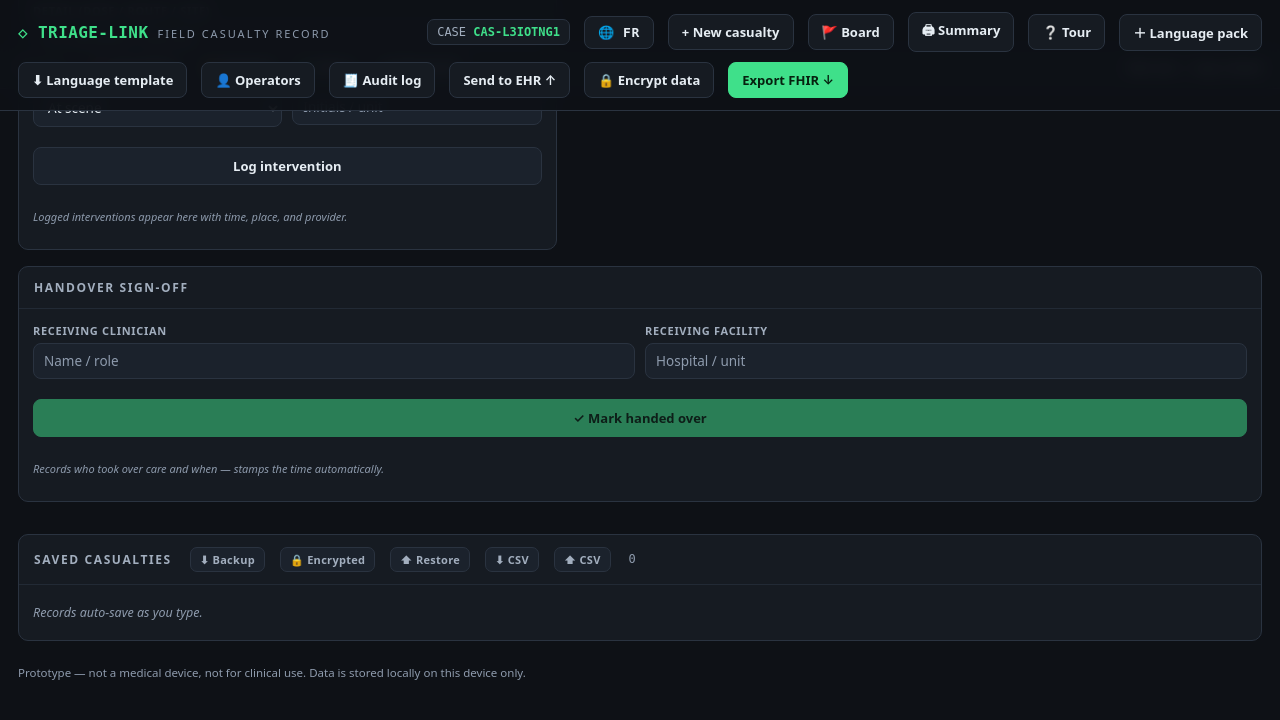
Test: App — handover sign-off › stamps a handover from the receiving clinician and can undo it
The width and height of the screenshot is (1280, 720).
(page scrolled)
Type "Dr. Smith" into the field labelled "Receiving clinician" at (334, 361), box [33,343,635,379]
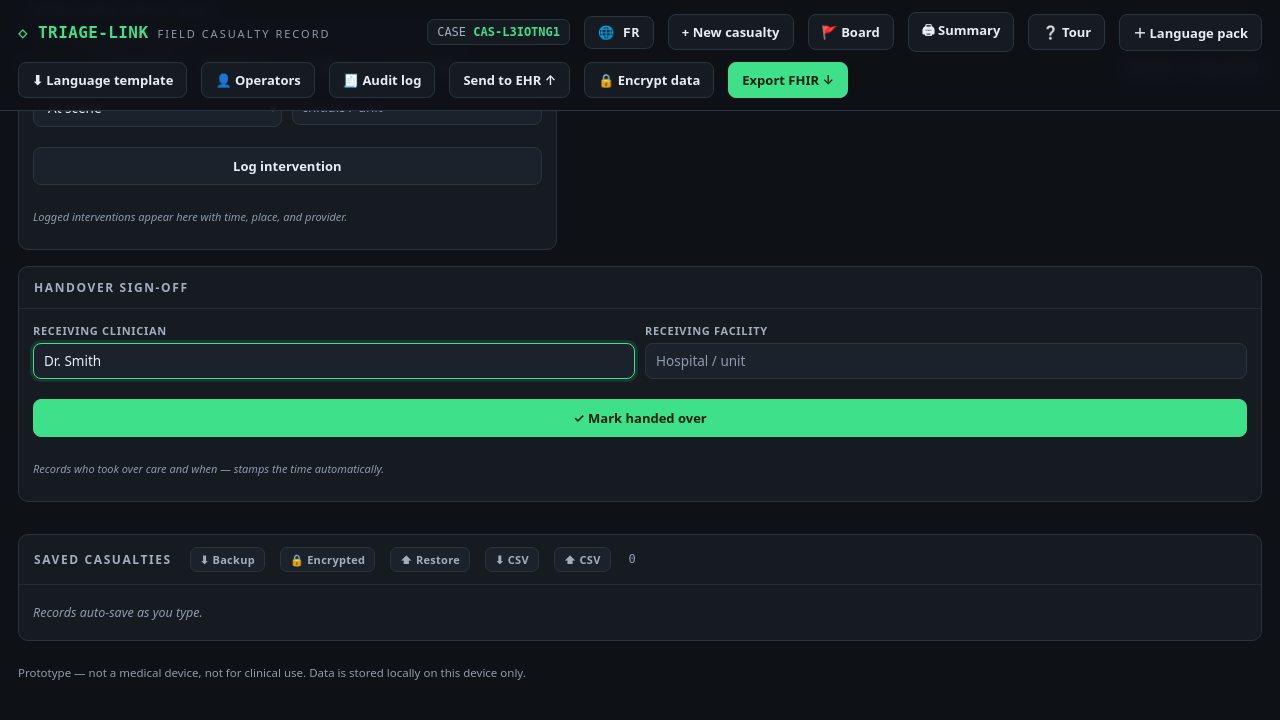
Click the button "✓ Mark handed over" at (640, 418), box [33,399,1247,437]
(page scrolled)
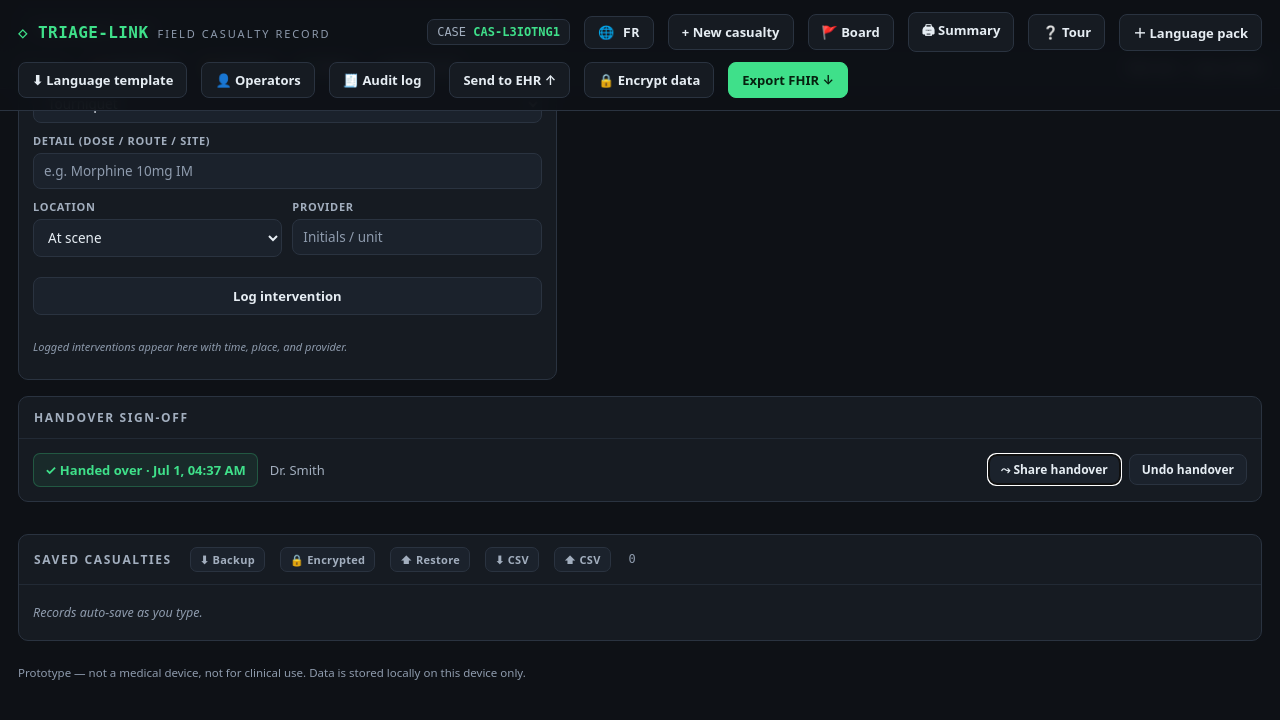
Check: the text "✓ Handed over · Jul 1, 04:37 AM" is shown, box [33,453,258,487]
Check: the text "Dr. Smith" is shown, box [270,461,325,479]
Check: the button "⤳ Share handover" is shown, box [988,454,1121,485]
// Undo returns to the entry form.
Click the button "Undo handover" at (1188, 470), box [1129,454,1247,485]
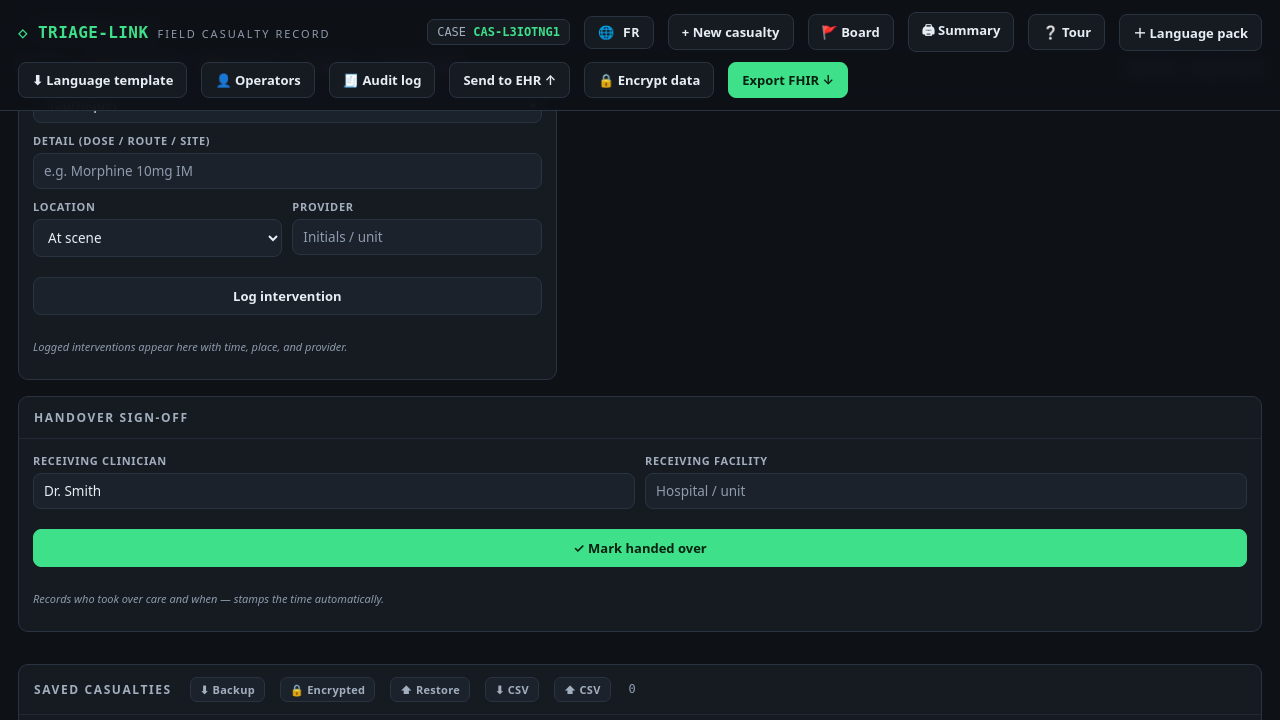
Check: the field labelled "Receiving clinician" is shown, box [33,473,635,509]
